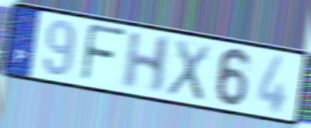4: (255, 52, 291, 117)
6: (214, 45, 252, 110)
9: (41, 18, 77, 79)
F: (79, 21, 128, 85)
H: (120, 30, 174, 96)
X: (164, 37, 212, 103)
